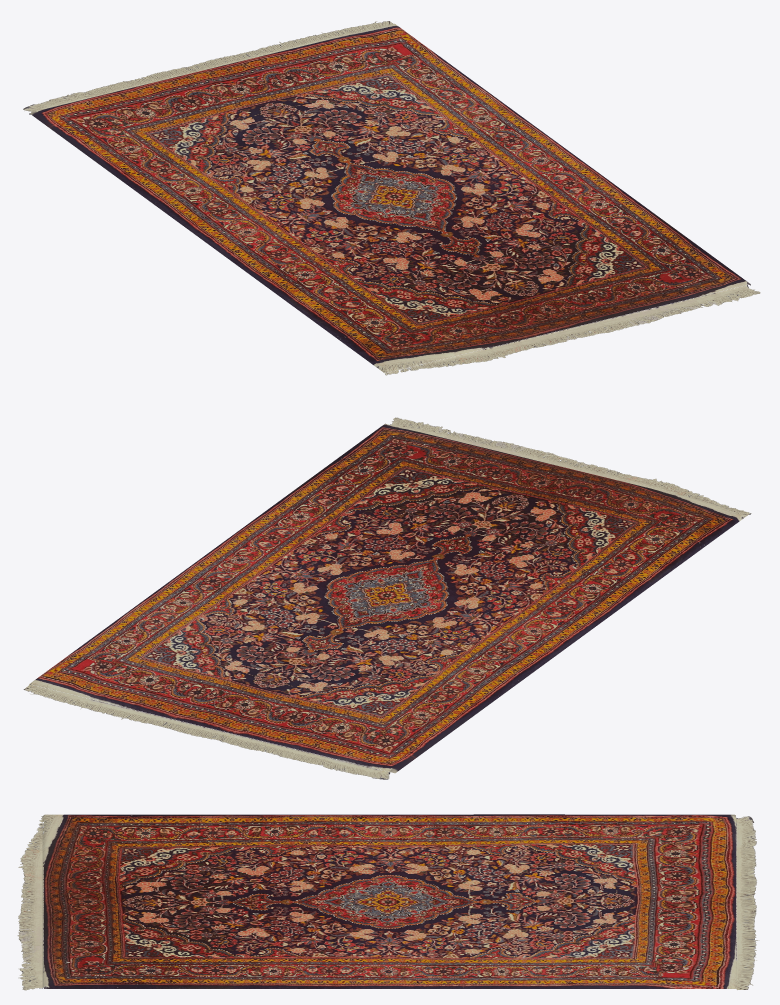
The model's file is afshar-2015-070-room.glb.
3 views of the same model, one above another, from view 1: azimuth 30°, elevation 25°; view 2: azimuth 150°, elevation 25°; view 3: azimuth 270°, elevation 25° (orthographic). The views are drawn at different scales.
Visible parts, largest first — view 1: rug; view 2: rug; view 3: rug.
Part boxes in pixels (box(x1,y1,x2,y2)): rug: box(23, 21, 760, 375); rug: box(23, 417, 751, 779); rug: box(17, 814, 759, 990).
Size of the model in its own units: 1.1 by 0.0122 by 2.01.
10 materials, 9 textured.
